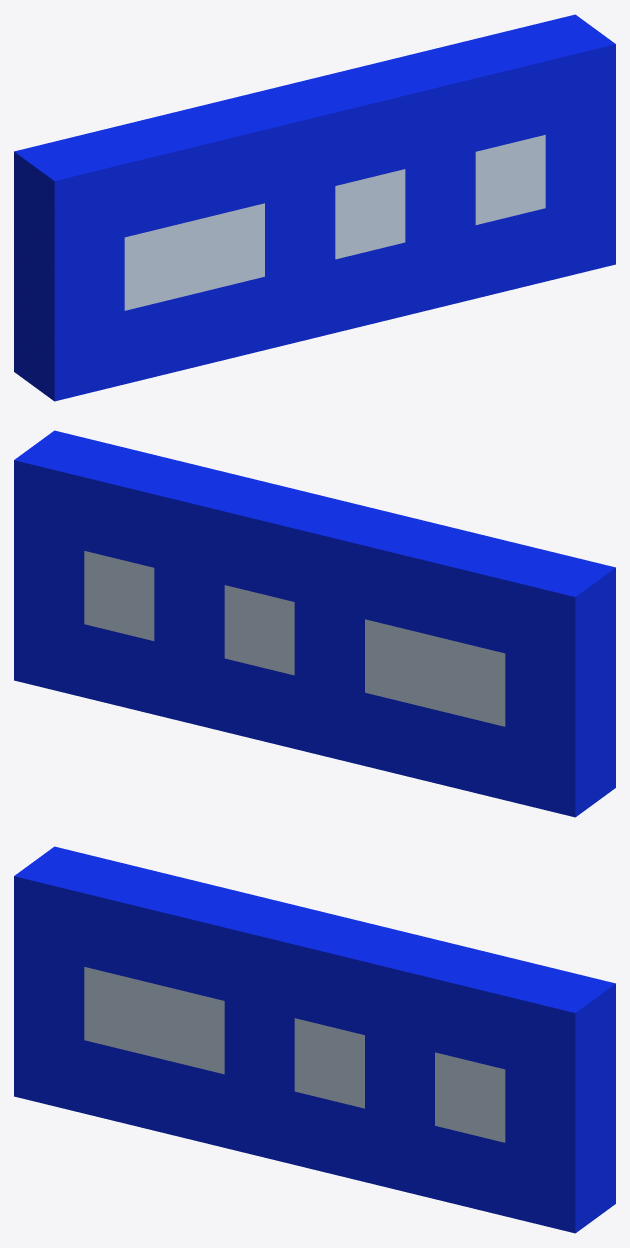
File: Advertising-8.fbx
The picture shows the model from 3 angles, top to bottom: view 1: azimuth 30°, elevation 25°; view 2: azimuth 150°, elevation 25°; view 3: azimuth 330°, elevation 25°; orthographic projection.
Visible parts, largest first — view 1: Advertising_8; view 2: Advertising_8; view 3: Advertising_8.
Part boxes in pixels (bbox=[...]): Advertising_8: bbox=[14, 14, 615, 401]; Advertising_8: bbox=[14, 430, 615, 817]; Advertising_8: bbox=[14, 846, 615, 1233].
Size of the model in its own units: 80 by 30 by 10.
2 materials, 2 textured.
